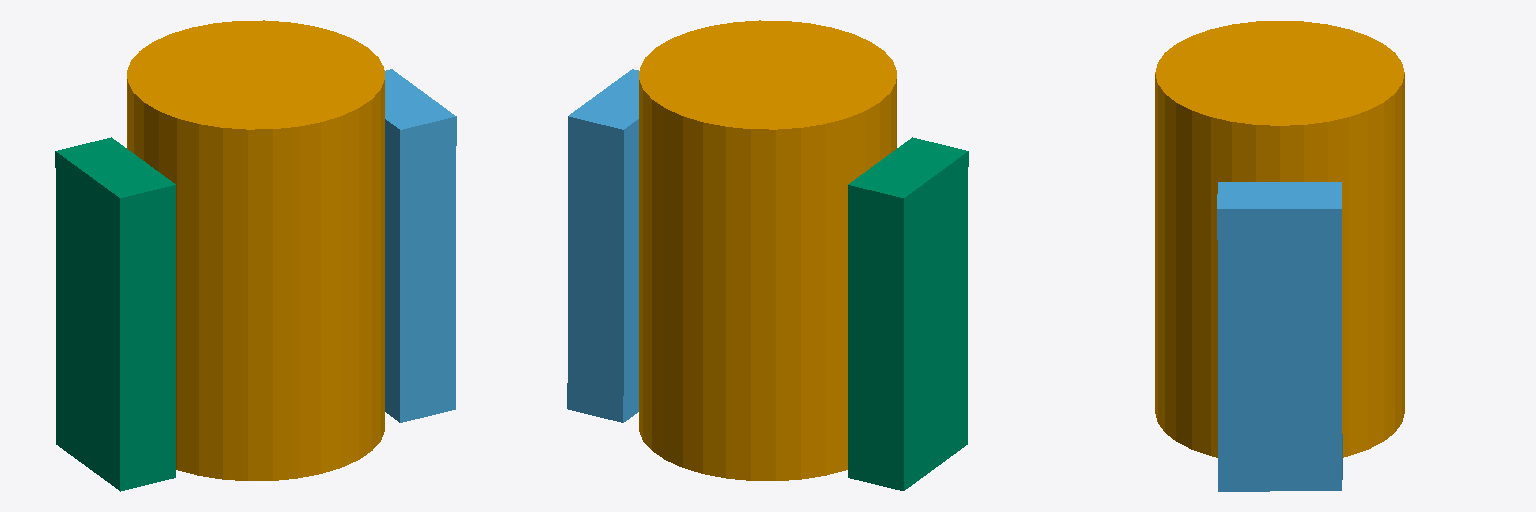
URDF robot description (myrobot):
<?xml version="1.0"?>
<robot name="myrobot">
  <link name="base_link">
    <visual>
      <origin xyz="0 0 0.3"/>
      <geometry>
        <cylinder length="0.6" radius="0.2"/>
      </geometry>
    </visual>
  </link>
  <link name="right_leg">
    <visual>
      <origin rpy="0 1.57 1.57"/>
      <geometry>
        <box size="0.5 0.1 0.2"></box>
      </geometry>
    </visual>
  </link>

  <link name="left_leg">
    <visual>
      <origin rpy="1.57 1.57 0"/> <!-- step02  -->
      <!--or <origin rpy="0 1.57 1.57"/> -->
      <geometry>
        <box size="0.5 0.1 0.2"></box>
      </geometry>
    </visual>
  </link>
 
  <joint name="base2right_leg" type="revolute">
    <parent link="base_link" />
    <child link="right_leg" />
    <origin xyz="0.25 0 0.25"/>
    <limit lower="0" upper="1.57" effort="1" velocity="1" />
  </joint>

  <joint name="base2left_leg" type="revolute">
    <parent link="base_link" />
    <child link="left_leg" />
    <origin xyz="-0.25 0 0.25"/> <!--step01 change left_leg's link_frame -->
    <limit lower="0" upper="1.57" effort="1" velocity="1" />
  </joint>


</robot>

--- Facts derived from the render (not from the file) ---
Views: 3 orthographic renders of the robot side by side, from view 1: azimuth 30°, elevation 25°; view 2: azimuth 150°, elevation 25°; view 3: azimuth 270°, elevation 25°.
Model myrobot with 3 links and 2 joints (2 revolute), rooted at base_link, posed all joints at 0.
Links seen in each view (by area): view 1: base_link, left_leg, right_leg; view 2: base_link, left_leg, right_leg; view 3: base_link, right_leg.
Boxes of the visible links, <box> form: base_link: <box>127,20,384,480</box>; left_leg: <box>55,137,175,491</box>; right_leg: <box>385,69,456,422</box>; base_link: <box>639,20,896,480</box>; left_leg: <box>848,137,968,490</box>; right_leg: <box>567,69,638,422</box>; base_link: <box>1155,21,1404,457</box>; right_leg: <box>1217,182,1342,491</box>.
Bounding box of the posed robot: 0.6004 × 0.4 × 0.6001 m (x, y, z).
Geometry: primitives only (box / cylinder / sphere), no mesh files.